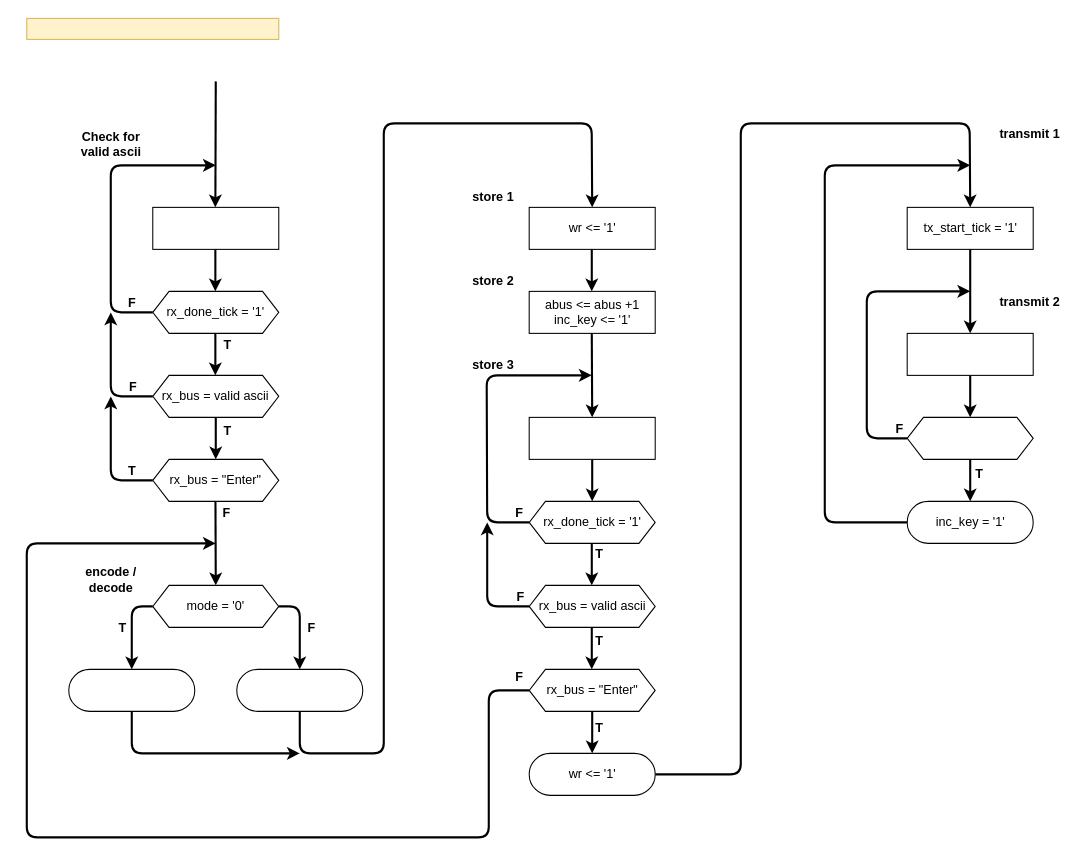
This 1084x865 diagram has some shape labels left out. Here are the shapes that lost their labels. From the top down, the centre of each, then its label:
(152,28): Receive, store and transmit ASCII
(215,227): clr_key <= '1' abus <= '0..0'
(969,437): tx_done_tick = '1'
(131,689): enc <= '1'
(299,689): dec <= '1'
